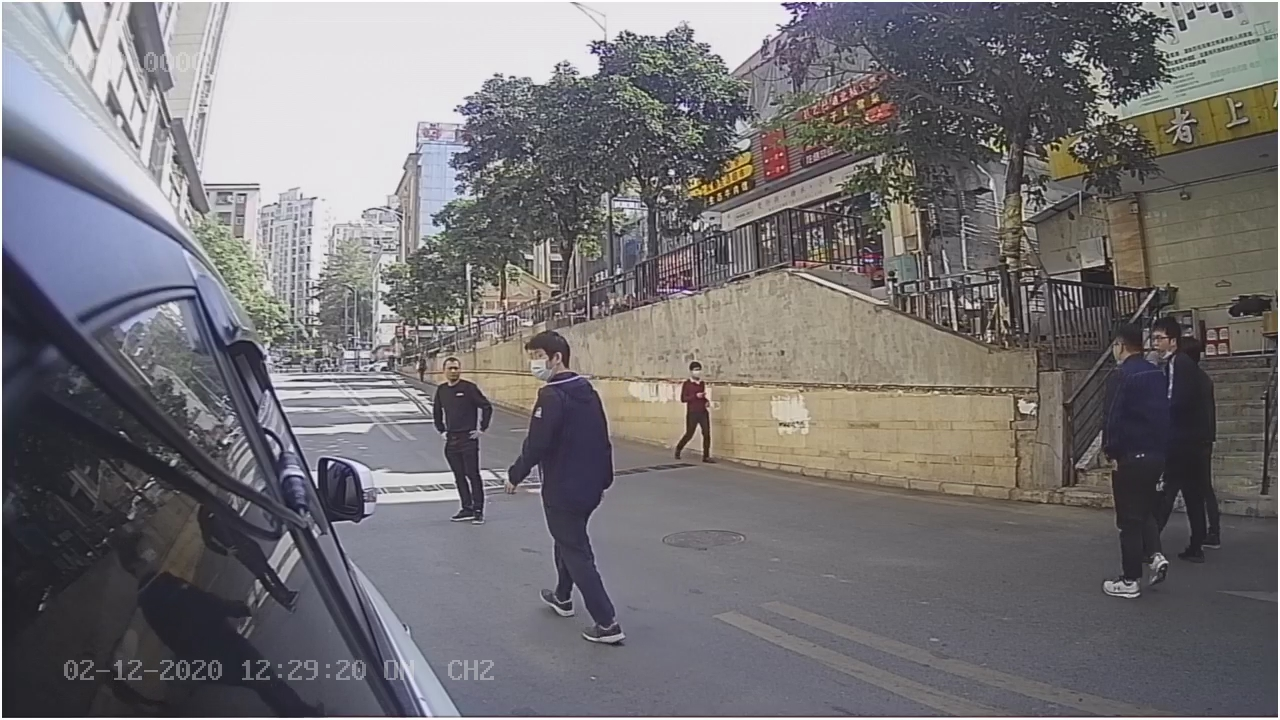person: (501, 319, 642, 646), (416, 349, 499, 538)
